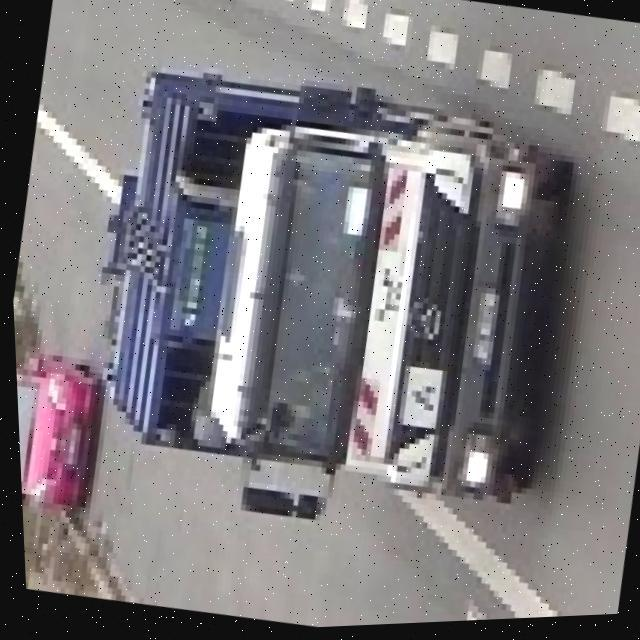truck: (71, 39, 594, 561)
